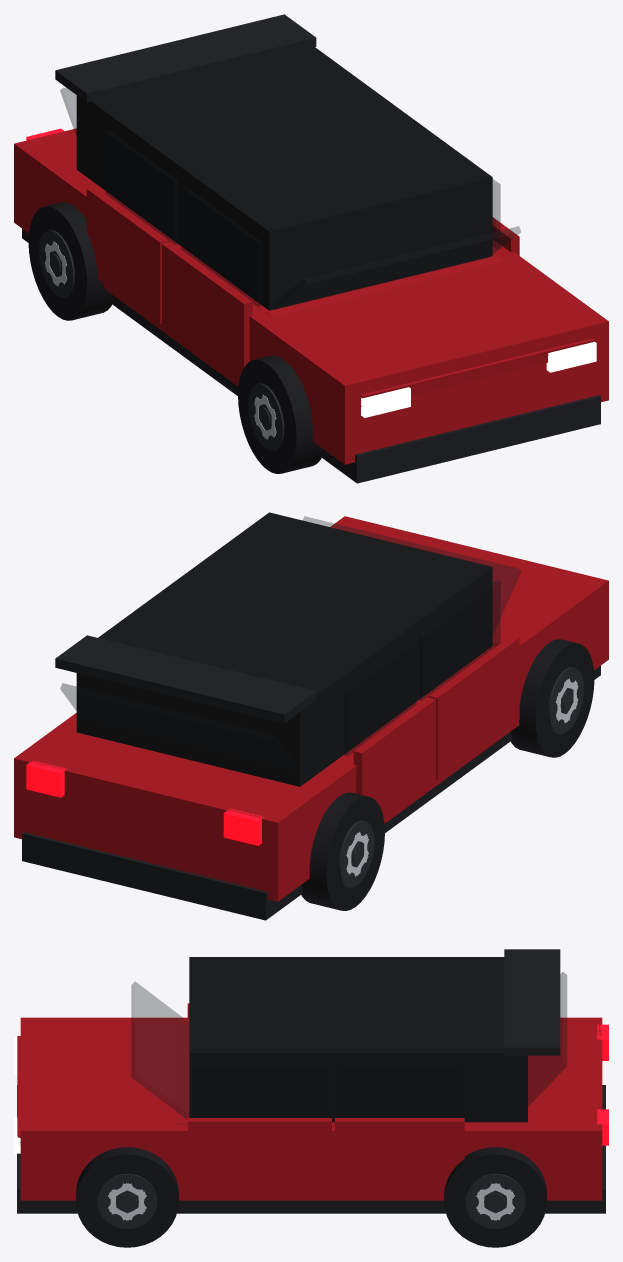
File: hatchback.glb
The picture shows the model from 3 angles, top to bottom: view 1: azimuth 30°, elevation 25°; view 2: azimuth 150°, elevation 25°; view 3: azimuth 270°, elevation 25°; orthographic projection. The views are drawn at different scales.
Parts seen in each view (by area): view 1: Body, Door_F_L, Door_R_L, Wheel_FL, Wheel_RL, Hood, Door_F_R; view 2: Body, Door_F_L, Door_R_L, Wheel_RL, Wheel_FL; view 3: Body, Door_F_R, Door_R_R, Wheel_FR, Wheel_RR, Hood.
Boxes of the visible parts, <box> form: Body: <box>14,14,608,483</box>; Door_F_L: <box>162,186,262,381</box>; Door_R_L: <box>86,131,178,324</box>; Wheel_FL: <box>238,355,321,473</box>; Wheel_RL: <box>28,202,112,320</box>; Hood: <box>266,255,594,406</box>; Door_F_R: <box>492,179,519,255</box>; Body: <box>14,512,608,920</box>; Door_F_L: <box>419,580,519,779</box>; Door_R_L: <box>344,641,435,818</box>; Wheel_RL: <box>301,792,384,910</box>; Wheel_FL: <box>510,639,594,757</box>; Body: <box>14,949,608,1213</box>; Door_F_R: <box>187,1065,331,1193</box>; Door_R_R: <box>335,1065,464,1193</box>; Wheel_FR: <box>76,1147,178,1247</box>; Wheel_RR: <box>444,1147,546,1247</box>; Hood: <box>17,1024,186,1142</box>.
Bounding box in the file's own units: 2.09 × 1.39 × 4.04.
